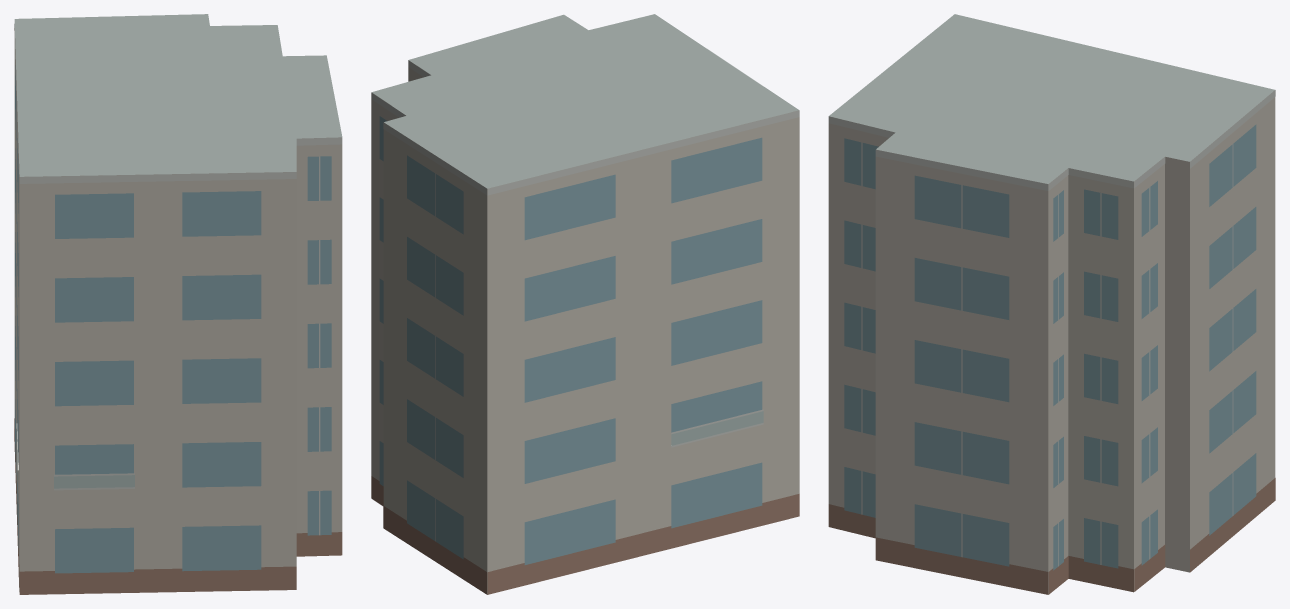
Rendered from survey-upis-32992361.glb.
3 renders of one model, left to right at view 1: azimuth 30°, elevation 25°; view 2: azimuth 150°, elevation 25°; view 3: azimuth 270°, elevation 25°, orthographic. The views are drawn at different scales.
Parts seen in each view (by area): view 1: survey-upis-32992361.tmp; view 2: survey-upis-32992361.tmp; view 3: survey-upis-32992361.tmp.
Boxes of the visible parts, x1=… form: survey-upis-32992361.tmp: x1=14, y1=14, x2=342, y2=594; survey-upis-32992361.tmp: x1=371, y1=14, x2=799, y2=594; survey-upis-32992361.tmp: x1=828, y1=14, x2=1275, y2=594.
Size of the model in its own units: 12.8 by 14.4 by 14.2.
